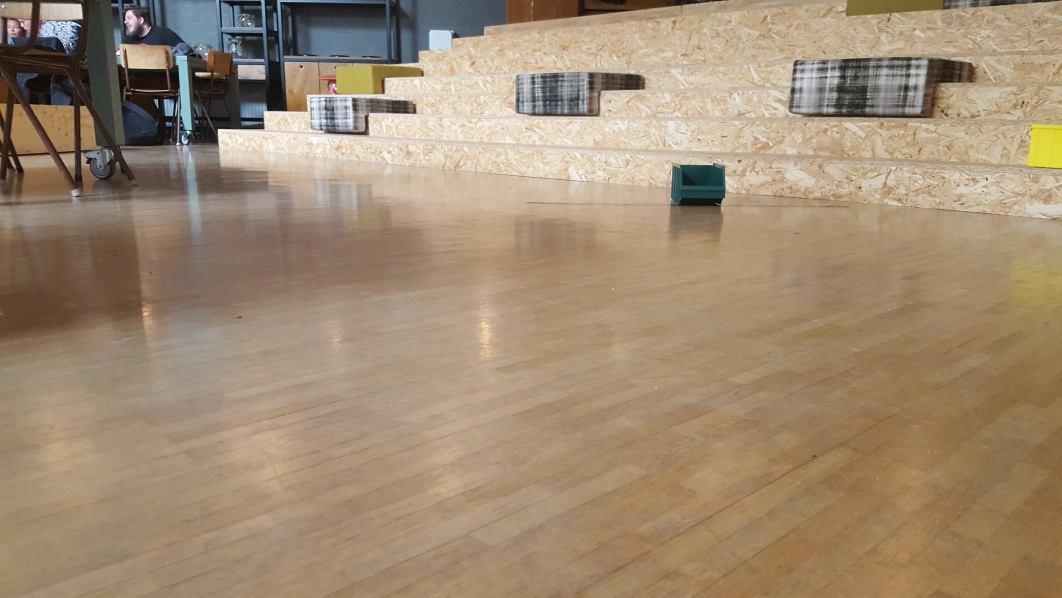tray: (667, 161, 729, 204)
